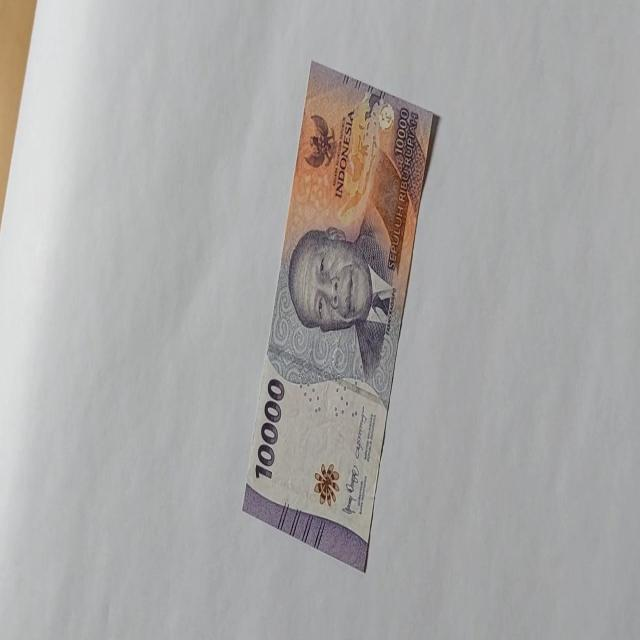Kertas: (240, 59, 440, 572), (254, 377, 285, 481)
